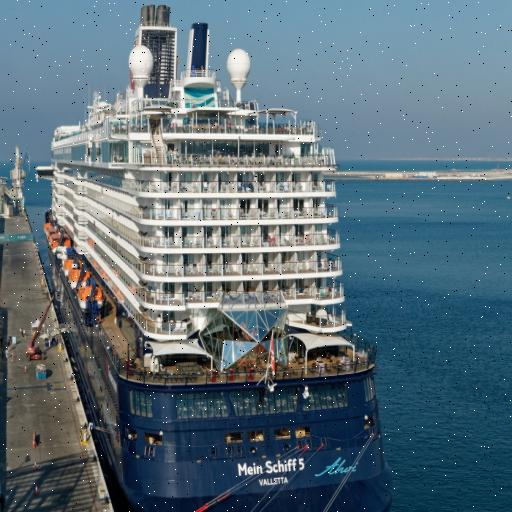cruises: (43, 1, 398, 512)
